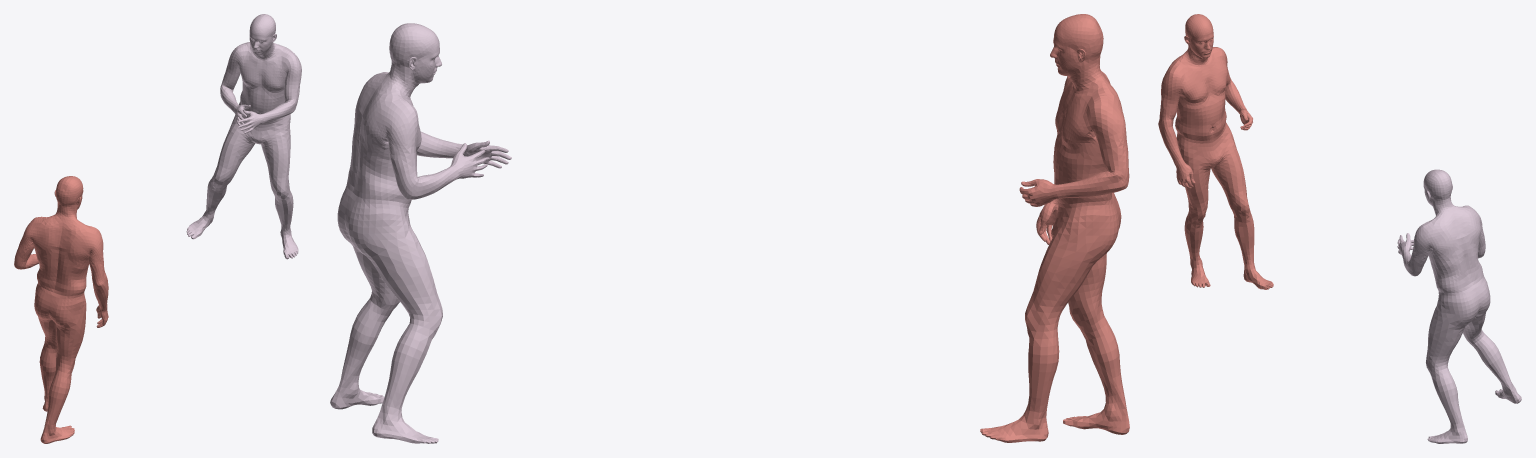
Rendered from frame_0005.glb.
3 renders of one model, left to right at view 1: azimuth 30°, elevation 25°; view 2: azimuth 150°, elevation 25°; view 3: azimuth 270°, elevation 25°, orthographic. The views are drawn at different scales.
Parts seen in each view (by area): view 1: human_1, human_2; view 2: human_2, human_1; view 3: human_1, human_2.
Boxes of the visible parts, x1,y1,x2,y2 form: human_1: (14, 176, 108, 443); human_2: (186, 14, 301, 259); human_2: (330, 23, 511, 443); human_1: (980, 14, 1129, 442); human_1: (1158, 14, 1273, 289); human_2: (1397, 169, 1521, 443).
Bounding box in the file's own units: 3.02 × 1.93 × 2.32.
